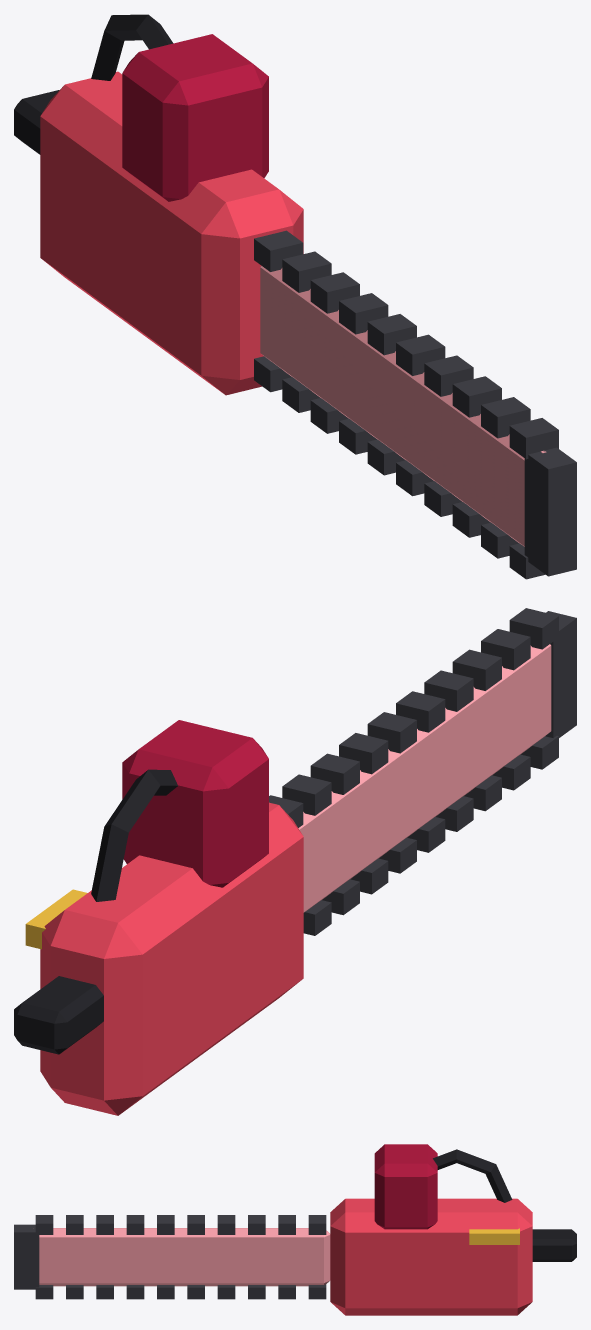
File: RubyChainsaw.fbx
The picture shows the model from 3 angles, top to bottom: view 1: azimuth 30°, elevation 25°; view 2: azimuth 150°, elevation 25°; view 3: azimuth 270°, elevation 25°; orthographic projection. The views are drawn at different scales.
Visible parts, largest first — view 1: RubyChainsaw; view 2: RubyChainsaw; view 3: RubyChainsaw.
Boxes of the visible parts, x1,y1,x2,y2 form: RubyChainsaw: [14, 14, 576, 579]; RubyChainsaw: [14, 608, 576, 1115]; RubyChainsaw: [14, 1144, 576, 1315].
Size of the model in its own units: 0.57 by 1.39 by 4.45.
1 material, 1 textured.
